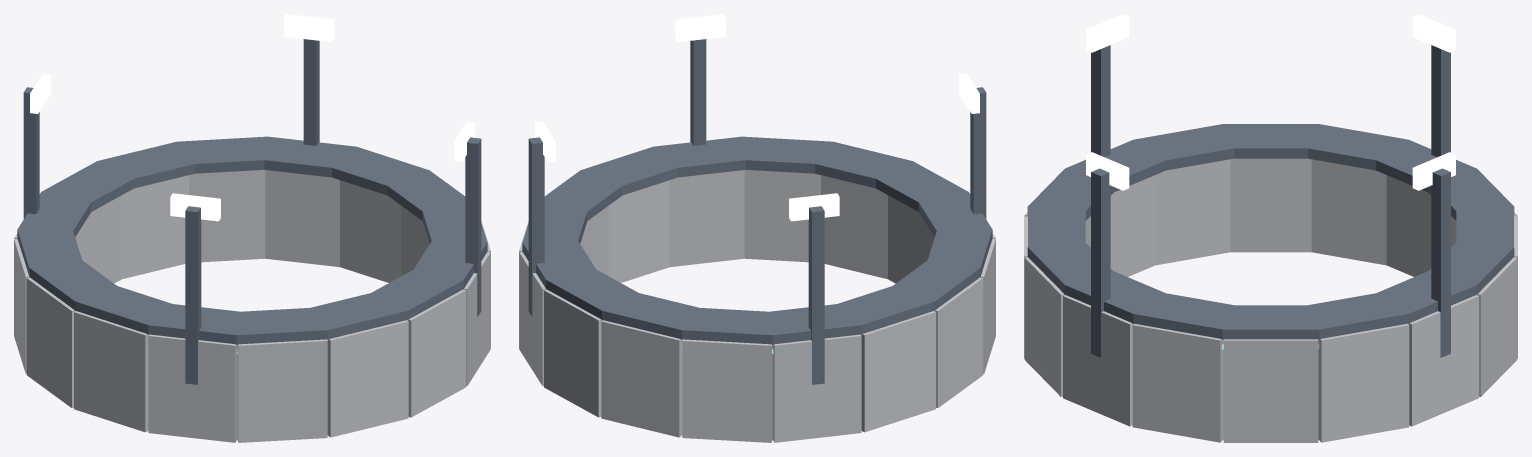
The model's file is stadium_arena.glb.
3 renders of one model, left to right at view 1: azimuth 30°, elevation 25°; view 2: azimuth 150°, elevation 25°; view 3: azimuth 270°, elevation 25°, orthographic. The views are drawn at different scales.
Visible parts, largest first — view 1: Wall_11, Wall_10, Wall_12, Wall_9, Wall_2, Wall_13, Wall_3, Wall_4, Wall_1, Wall_8, RoofRim_11, Wall_5 (+26 smaller); view 2: Wall_5, Wall_6, Wall_4, Wall_7, Wall_14, Wall_3, Wall_13, Wall_12, Wall_15, Wall_8, RoofRim_5, RoofRim_7 (+26 smaller); view 3: Wall_0, Wall_1, Wall_15, Wall_8, Wall_7, Wall_9, Wall_2, Wall_14, Wall_3, Wall_13, Wall_6, Wall_10 (+24 smaller).
Part boxes in pixels (box(x1,y1,x2,y2)): Wall_11: box(237, 339, 327, 442); Wall_10: box(148, 334, 237, 442); Wall_12: box(327, 320, 408, 437); Wall_9: box(74, 311, 148, 432); Wall_2: box(265, 170, 339, 266); Wall_13: box(408, 289, 465, 417); Wall_3: box(189, 170, 265, 262); Wall_4: box(122, 175, 188, 279); Wall_1: box(340, 180, 401, 282); Wall_8: box(26, 277, 74, 407); RoofRim_11: box(230, 307, 328, 344); Wall_5: box(75, 195, 121, 283); Wall_5: box(682, 339, 772, 442); Wall_6: box(772, 334, 861, 442); Wall_4: box(601, 320, 682, 437); Wall_7: box(861, 311, 935, 432); Wall_14: box(670, 170, 744, 266); Wall_3: box(544, 289, 601, 417); Wall_13: box(744, 170, 820, 262); Wall_12: box(821, 175, 887, 279); Wall_15: box(608, 180, 669, 282); Wall_8: box(935, 277, 983, 407); RoofRim_5: box(681, 308, 780, 344); RoofRim_7: box(828, 283, 934, 334); Wall_0: box(1223, 339, 1318, 442); Wall_1: box(1318, 323, 1409, 442); Wall_15: box(1132, 323, 1223, 442); Wall_8: box(1230, 158, 1311, 252); Wall_7: box(1311, 159, 1386, 265); Wall_9: box(1155, 159, 1230, 265); Wall_2: box(1408, 295, 1478, 426); Wall_14: box(1063, 295, 1133, 426); Wall_3: box(1477, 257, 1517, 396); Wall_13: box(1024, 257, 1064, 396); Wall_6: box(1386, 175, 1431, 276); Wall_10: box(1110, 175, 1155, 276).
Size of the model in its own units: 39.4 by 21.7 by 39.4.
